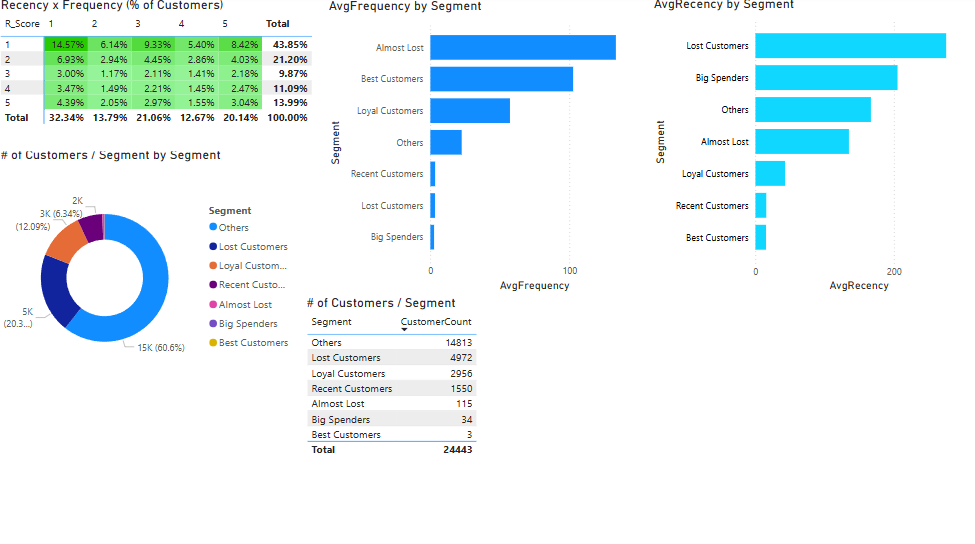

This screenshot's page, from the dashboard's own definition file:
{"tool":"powerbi","page":{"name":"RFM Analysis","canvas":[1280,720],"ordinal":1},"visuals":[{"type":"donutChart","fields":{"Category":["Sheet1.RFM_Segment"],"Y":["CountNonNull(CustomerSummary.InvoiceNo)"]},"box":[0,197.3,400.3,324],"z":0},{"type":"actionButton","box":[0,0,100,40],"z":1000},{"type":"pivotTable","title":"Recency x Frequency (% of Customers)","fields":{"Rows":["CustomerSummary.R_Score"],"Columns":["CustomerSummary.F_Score"],"Values":["CustomerSummary.PercentOfCustomers"]},"box":[0,1.4,429.1,201.6],"z":2000},{"type":"clusteredBarChart","fields":{"Category":["CustomerSummary.Segment"],"Y":["CustomerSummary.AvgRecency"]},"box":[855.4,0,424.8,391.7],"z":3000},{"type":"tableEx","title":"# of Customers  /  Segment","fields":{"Values":["CustomerSummary.Segment","CustomerSummary.CustomerCount"]},"box":[400.3,391.7,267.8,328.3],"z":4000},{"type":"clusteredBarChart","fields":{"Category":["CustomerSummary.Segment"],"Y":["CustomerSummary.AvgFrequency"]},"box":[429.1,2.9,426.2,388.8],"z":5000}]}

Visuals, with their boxes in screenshot pixels (x1, y1, x2, y2), scaled from the page's 1280x720 canvas onto the 975x544 screenshot:
donutChart - Sheet1.RFM_Segment x CountNonNull(CustomerSummary.InvoiceNo): 0,149,305,394
actionButton: 0,0,76,30
"Recency x Frequency (% of Customers)" pivotTable: 0,1,327,153
clusteredBarChart - CustomerSummary.Segment x CustomerSummary.AvgRecency: 652,0,974,296
"# of Customers  /  Segment" tableEx: 305,296,509,543
clusteredBarChart - CustomerSummary.Segment x CustomerSummary.AvgFrequency: 327,2,651,296
